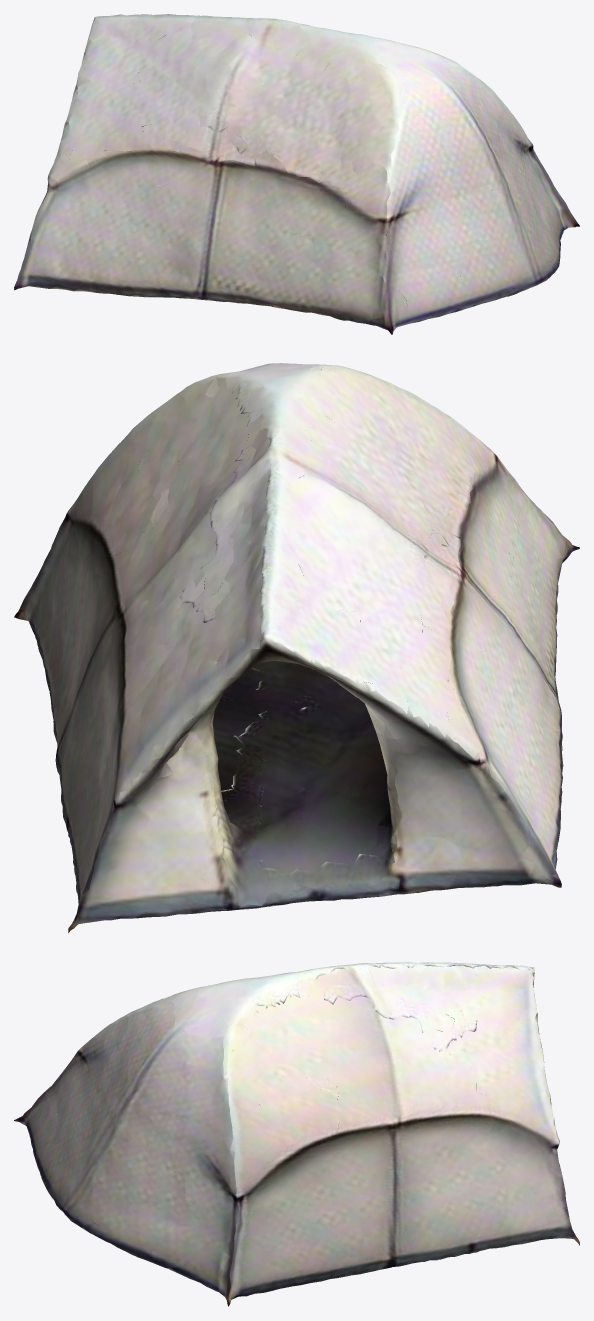
File: a-tent.glb
The picture shows the model from 3 angles, top to bottom: view 1: azimuth 30°, elevation 25°; view 2: azimuth 150°, elevation 25°; view 3: azimuth 270°, elevation 25°; orthographic projection. The views are drawn at different scales.
Parts seen in each view (by area): view 1: world; view 2: world; view 3: world.
Boxes of the visible parts, x1,y1,x2,y2 form: world: (14,14,579,334); world: (14,363,579,933); world: (14,962,579,1306).
Bounding box in the file's own units: 1.02 × 0.5555 × 1.05.
1 material, 1 textured.
